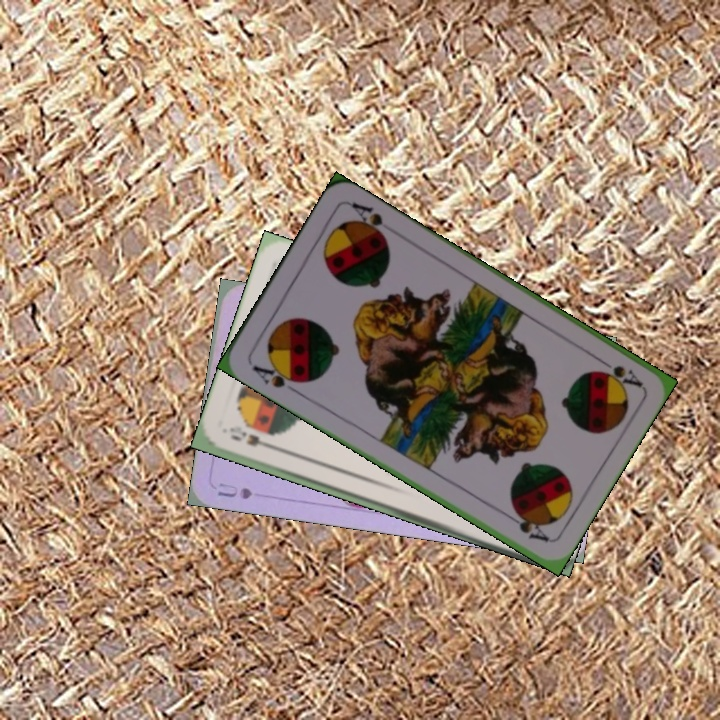SA: (248, 358, 305, 396), (591, 352, 646, 390)
SO: (225, 423, 279, 453)
SU: (213, 478, 255, 502)
